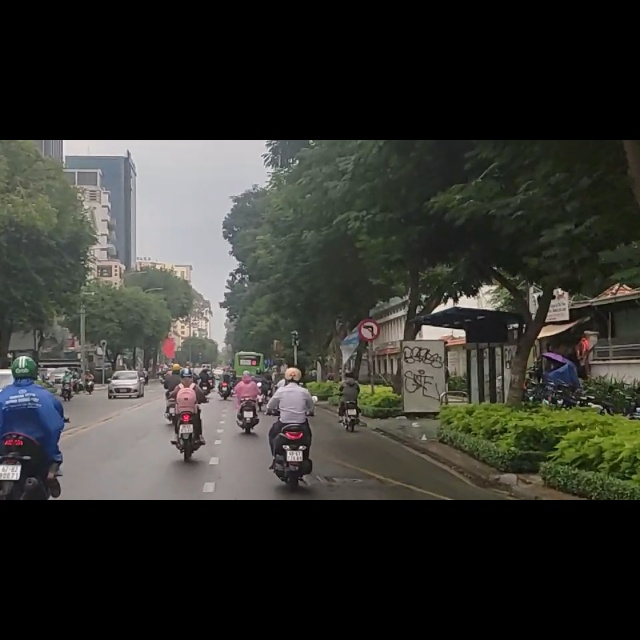bien_cam: (359, 318, 379, 357)
